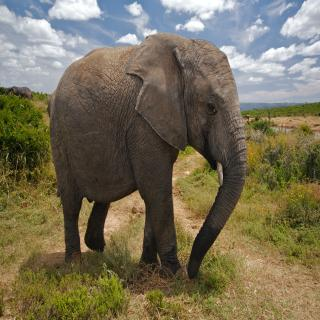Elephant: (40, 30, 253, 285)
